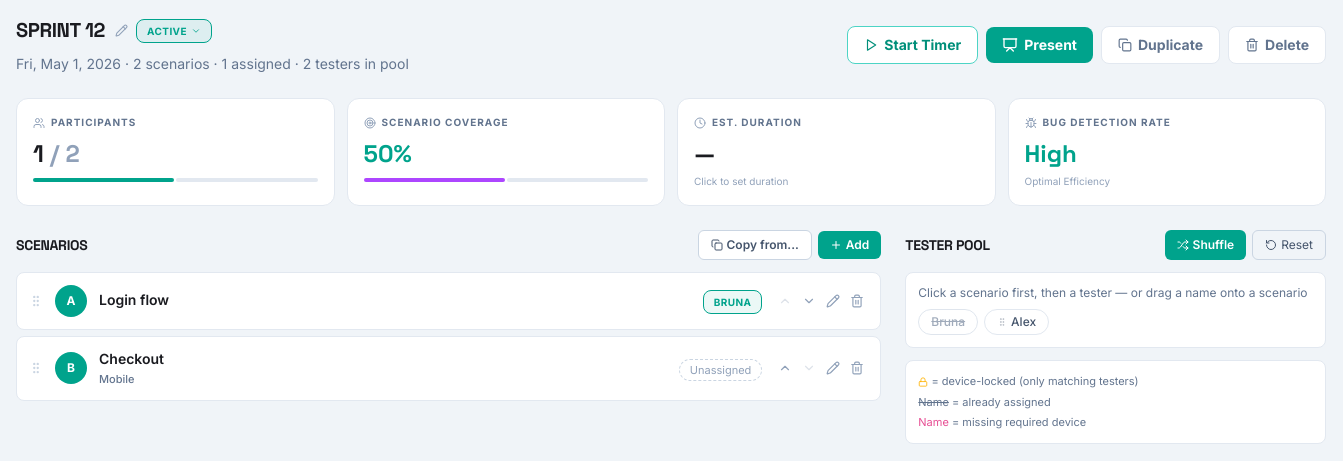
Scenario: SessionSetupPage › clicking title enters edit mode
The image size is (1343, 461).
Check: the heading "Sprint 12" is shown, box [16,16,105,44]
Click the element titled "Click to edit title": [72, 30] box [16,16,128,44]
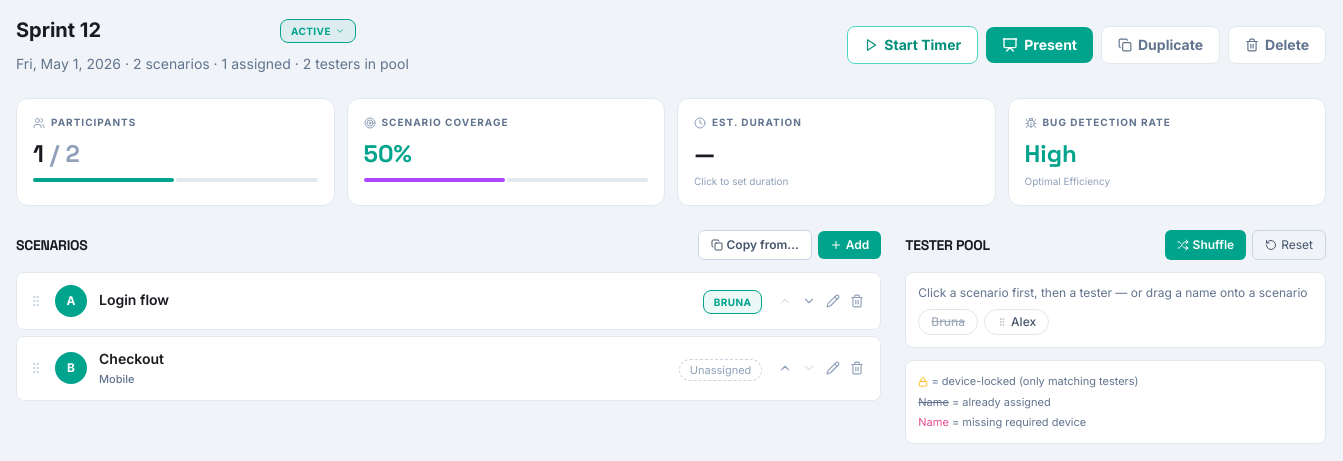
Check: the field showing "Sprint 12" is shown, box [16,16,272,44]
